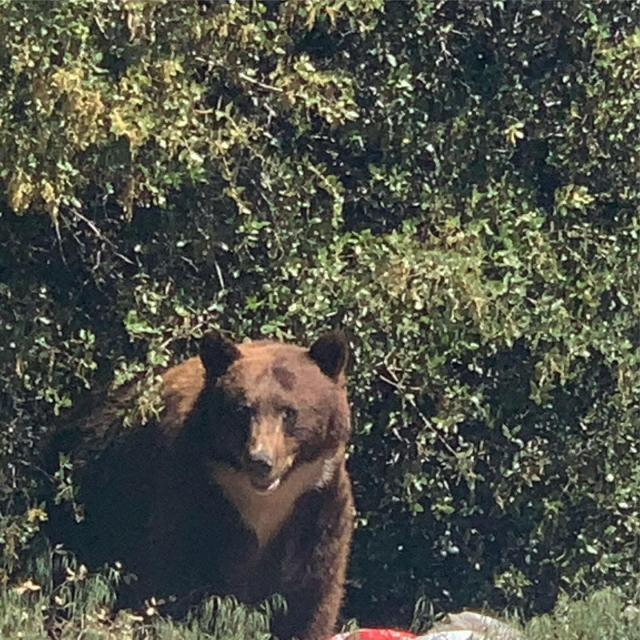Bear: (42, 330, 357, 640)
